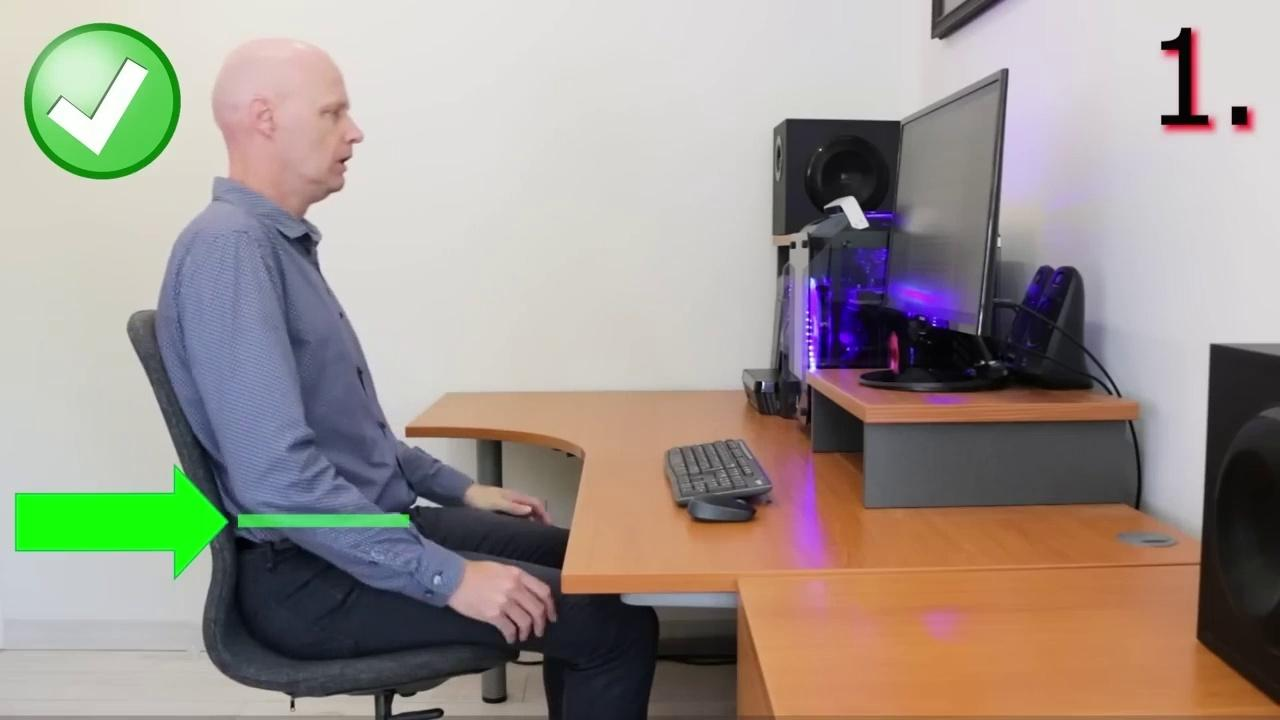GoodPosture: (155, 38, 658, 719)
